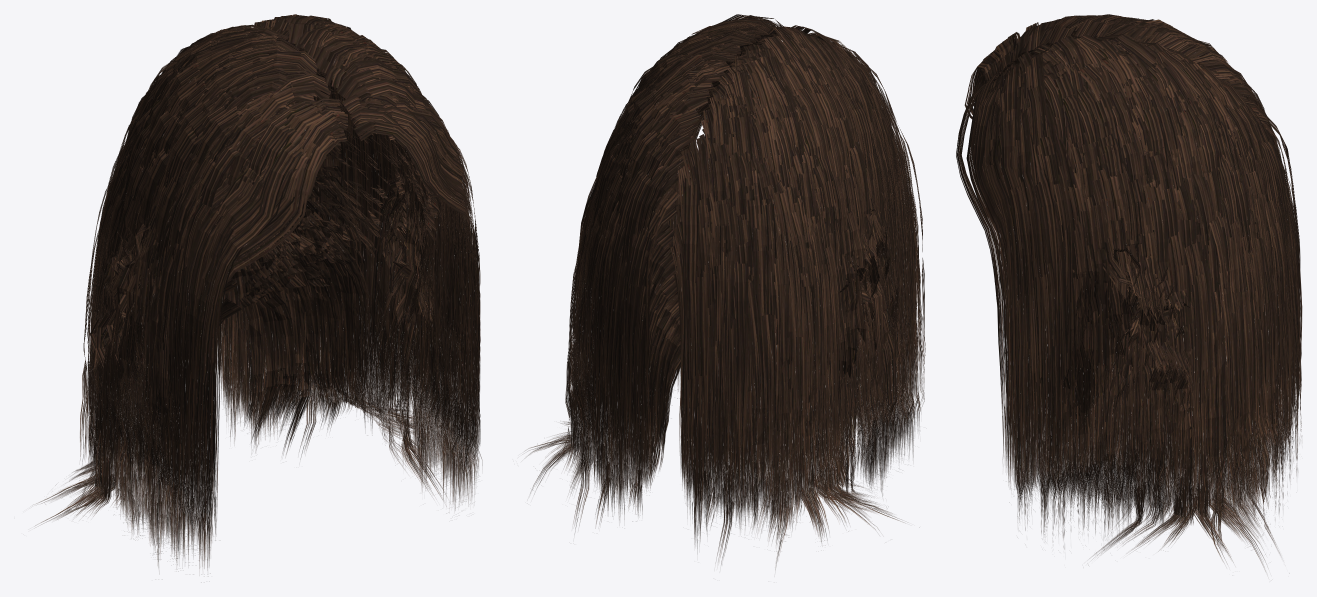
The model's file is long_lisse.glb.
3 renders of one model, left to right at view 1: azimuth 30°, elevation 25°; view 2: azimuth 150°, elevation 25°; view 3: azimuth 270°, elevation 25°, orthographic. The views are drawn at different scales.
Visible parts, largest first — view 1: MH_coiffure_long_lisse; view 2: MH_coiffure_long_lisse; view 3: MH_coiffure_long_lisse.
Boxes of the visible parts, <box> form: MH_coiffure_long_lisse: <box>35,14,482,569</box>; MH_coiffure_long_lisse: <box>525,14,925,569</box>; MH_coiffure_long_lisse: <box>956,14,1302,571</box>.
Size of the model in its own units: 0.2699 by 0.3168 by 0.1989.
Materials: 1 (1 with a texture image).
